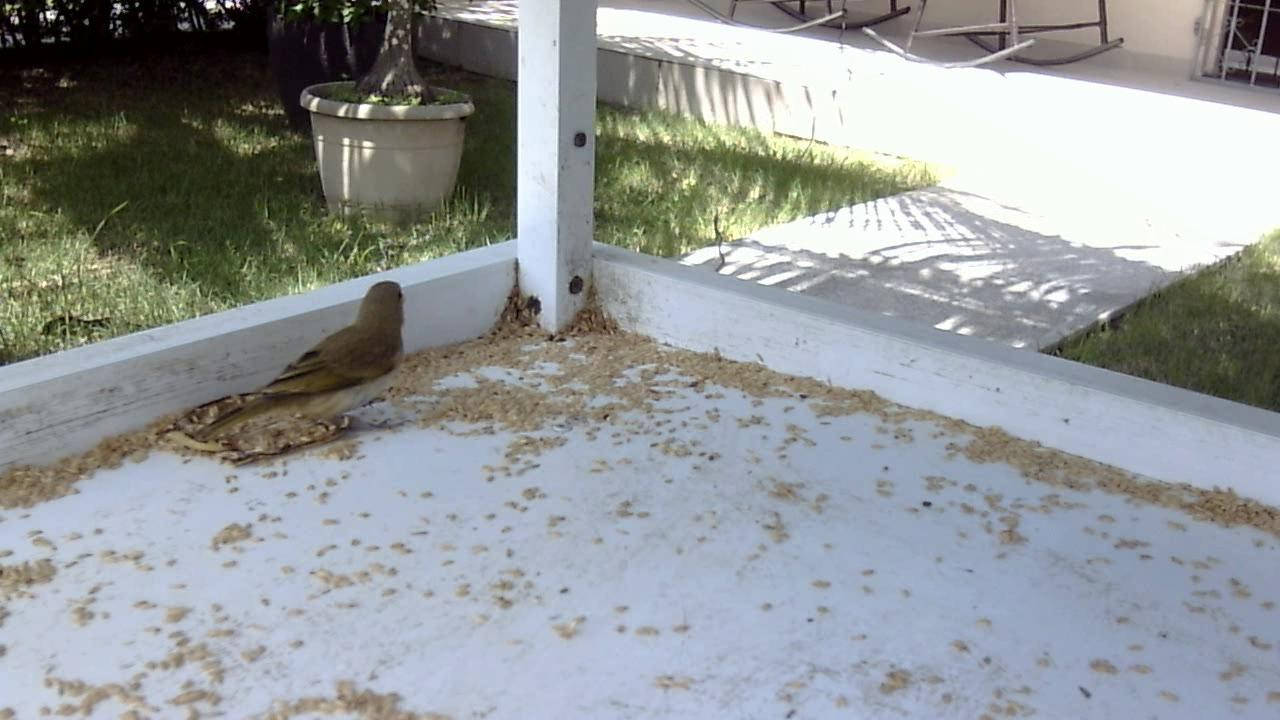canario_do_amazonas: (168, 275, 417, 472)
